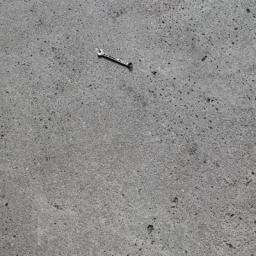FOD: (97, 46, 136, 73)
